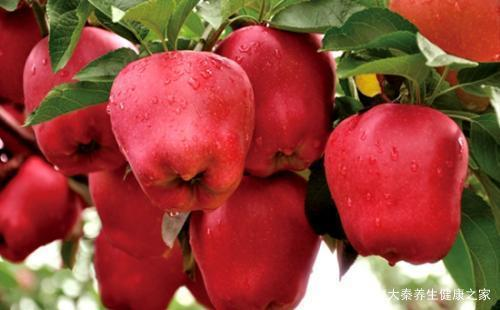apple: (322, 105, 472, 265), (109, 48, 256, 211), (190, 167, 318, 310), (215, 24, 333, 174), (22, 23, 129, 174), (89, 163, 185, 258), (94, 221, 184, 310)
